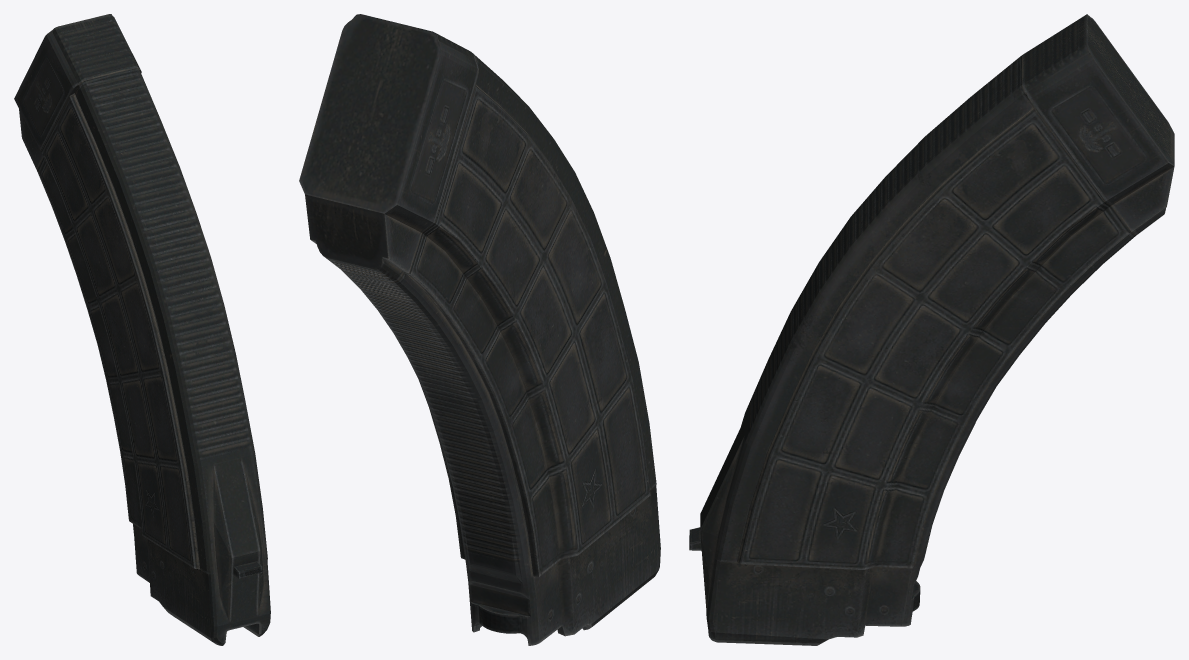
3 views of the same model, side by side, from view 1: azimuth 30°, elevation 25°; view 2: azimuth 150°, elevation 25°; view 3: azimuth 270°, elevation 25° (orthographic). The views are drawn at different scales.
Parts seen in each view (by area): view 1: TW_59fafc5086f7740dbe19f6c3_PZ_Import; view 2: TW_59fafc5086f7740dbe19f6c3_PZ_Import; view 3: TW_59fafc5086f7740dbe19f6c3_PZ_Import.
Boxes of the visible parts, <box> form: TW_59fafc5086f7740dbe19f6c3_PZ_Import: <box>14,14,270,645</box>; TW_59fafc5086f7740dbe19f6c3_PZ_Import: <box>299,14,660,645</box>; TW_59fafc5086f7740dbe19f6c3_PZ_Import: <box>689,14,1174,645</box>.
Bounding box in the file's own units: 0.0168 × 0.0853 × 0.1175.
Materials: 1 (1 with a texture image).
